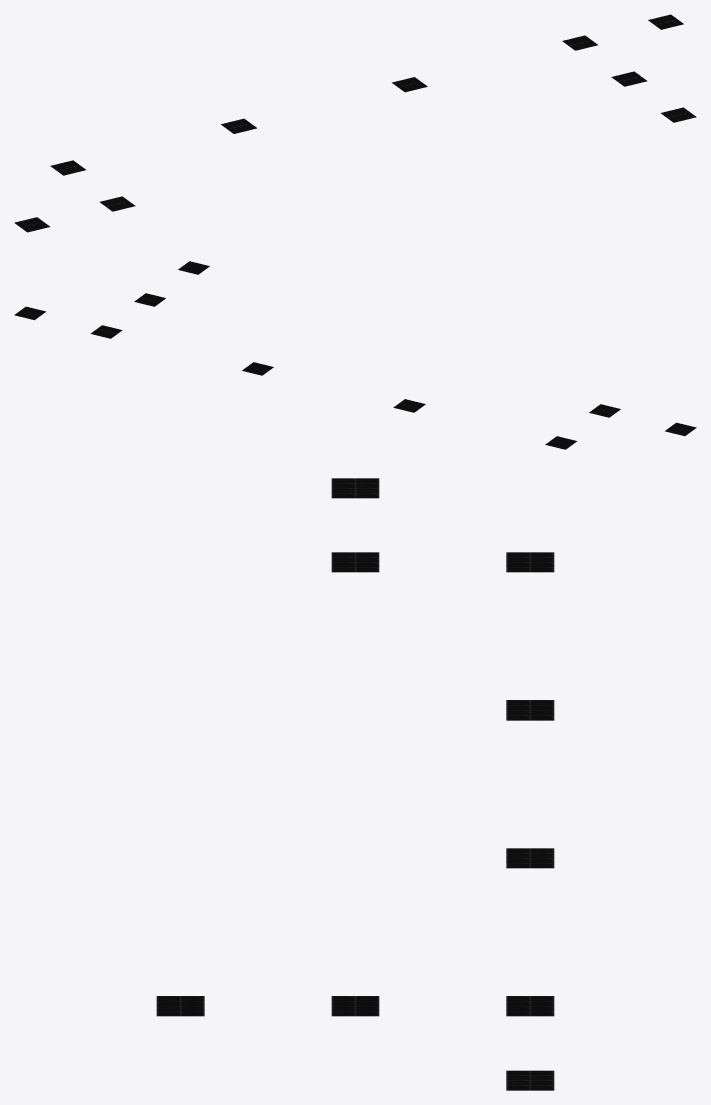
The model's file is Aztec_Alpha_92.glb.
3 renders of one model, top to bottom at view 1: azimuth 30°, elevation 25°; view 2: azimuth 150°, elevation 25°; view 3: azimuth 270°, elevation 25°, orthographic. The views are drawn at different scales.
Visible parts, largest first — view 1: Aztec_Alpha_92; view 2: Aztec_Alpha_92; view 3: Aztec_Alpha_92.
Boxes of the visible parts, x1,y1,x2,y2 form: Aztec_Alpha_92: (14, 14, 696, 232); Aztec_Alpha_92: (14, 261, 696, 449); Aztec_Alpha_92: (156, 478, 554, 1090).
Size of the model in its own units: 148 by 7.11e-15 by 40.62.
1 material, 1 textured.
